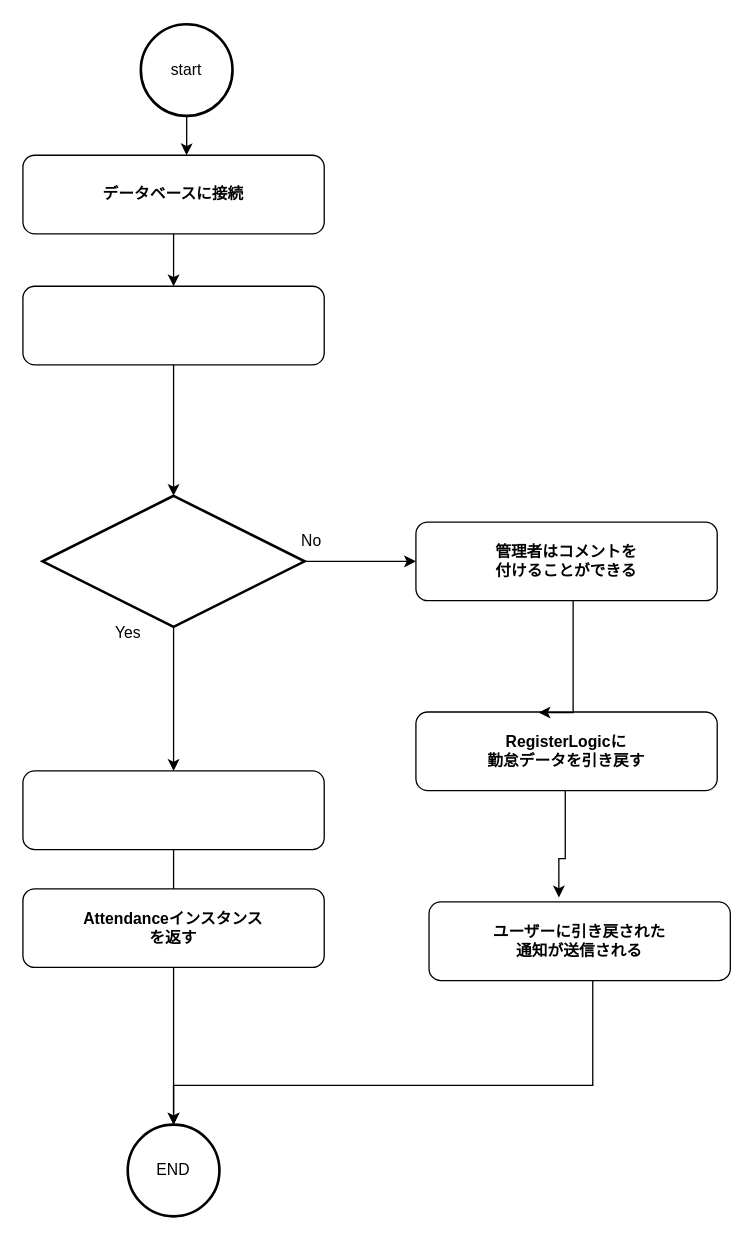
This 753x1239 diagram has some shape labels left out. Here are the shapes that lost their labels. From the top down, the box of each, then its label:
(22, 285, 324, 365): ApprovalLogic から 承認待ちの勤怠データを受け取る
(41, 494, 305, 627): 勤怠情報を承認する
(22, 770, 324, 850): ユーザーの勤怠情報を取得し Attendanceインスタンスを作成
